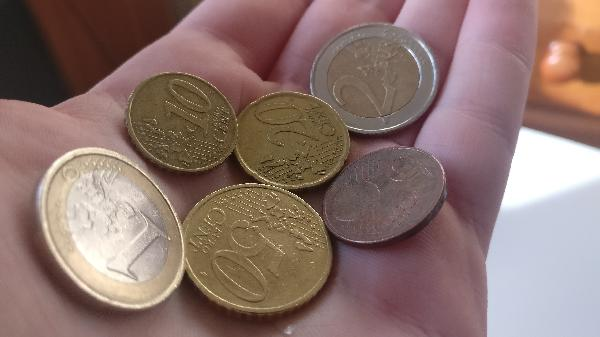Fifty Cent: (180, 181, 345, 314)
Five Cent: (322, 146, 451, 247)
One Euro: (30, 148, 189, 310)
Ten Cent: (129, 66, 236, 177)
Twenty Cent: (233, 91, 348, 185)
Two Euro: (315, 20, 442, 133)
